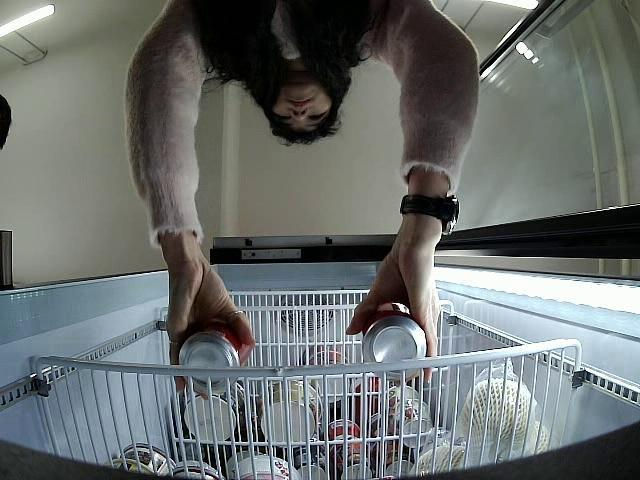11_cocaColaZero: (358, 300, 429, 383), (180, 318, 256, 393)
